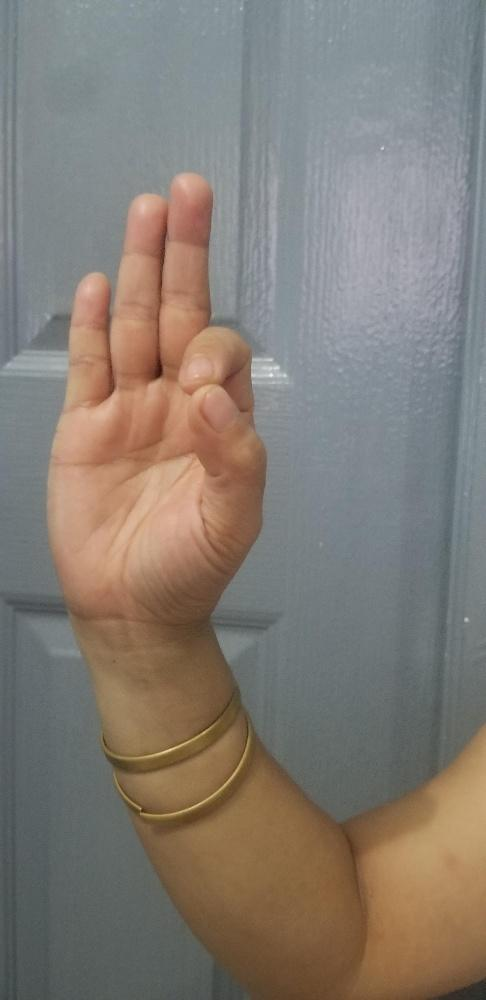f: (44, 168, 266, 614)
